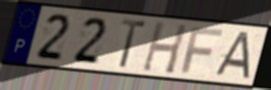2: (32, 12, 73, 63), (69, 16, 110, 66)
A: (210, 31, 252, 81)
F: (179, 26, 225, 75)
H: (140, 20, 189, 76)
T: (117, 17, 149, 70)
